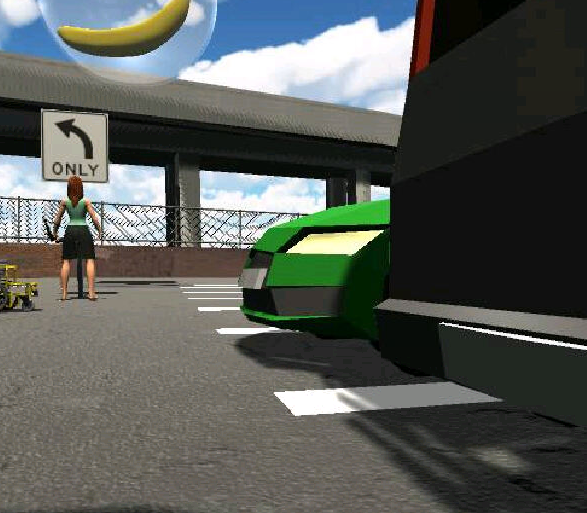arrow_left: (53, 113, 97, 160)
